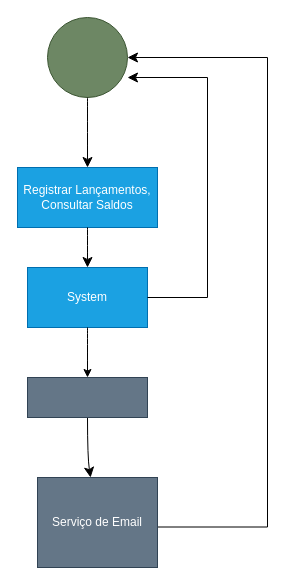
Image size: 295x585. Some labels were removed from this diagram. Here are the shapes that lost their labels. From the top down, the centre of each, then its label:
At point 87,57: "USUARIO".
At point 87,397: "Envia Alerta".
